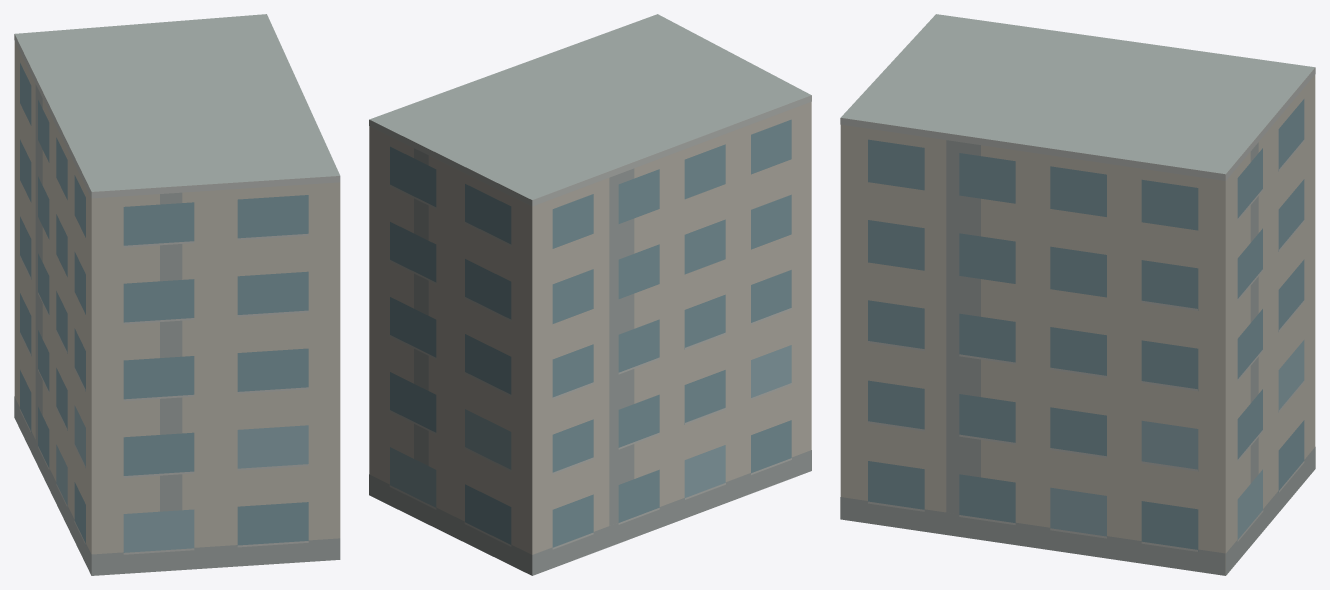
The model's file is survey-upis-32890790.glb.
3 renders of one model, left to right at view 1: azimuth 30°, elevation 25°; view 2: azimuth 150°, elevation 25°; view 3: azimuth 270°, elevation 25°, orthographic. The views are drawn at different scales.
Parts seen in each view (by area): view 1: survey-upis-32890790.tmp; view 2: survey-upis-32890790.tmp; view 3: survey-upis-32890790.tmp.
Boxes of the visible parts, x1,y1,x2,y2 form: survey-upis-32890790.tmp: (14, 14, 340, 575); survey-upis-32890790.tmp: (369, 14, 811, 575); survey-upis-32890790.tmp: (840, 14, 1315, 575).
Size of the model in its own units: 12.24 by 14.3 by 15.34.
